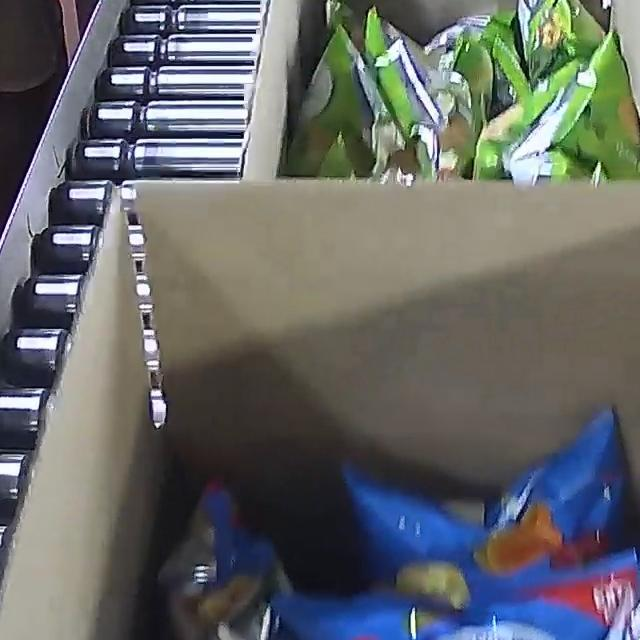paprika: (142, 417, 640, 640)
yogurt: (315, 0, 640, 177)
